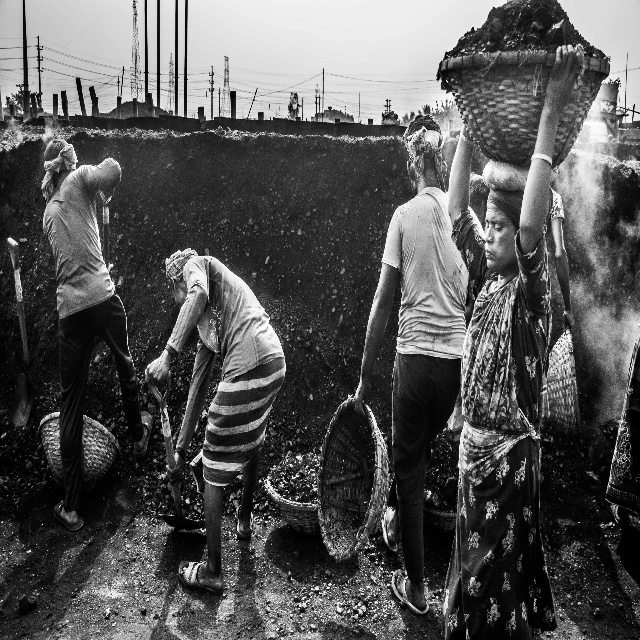Sin_guantes: (543, 44, 584, 108), (353, 379, 372, 420), (146, 358, 170, 388), (166, 452, 184, 485), (562, 309, 575, 334)
